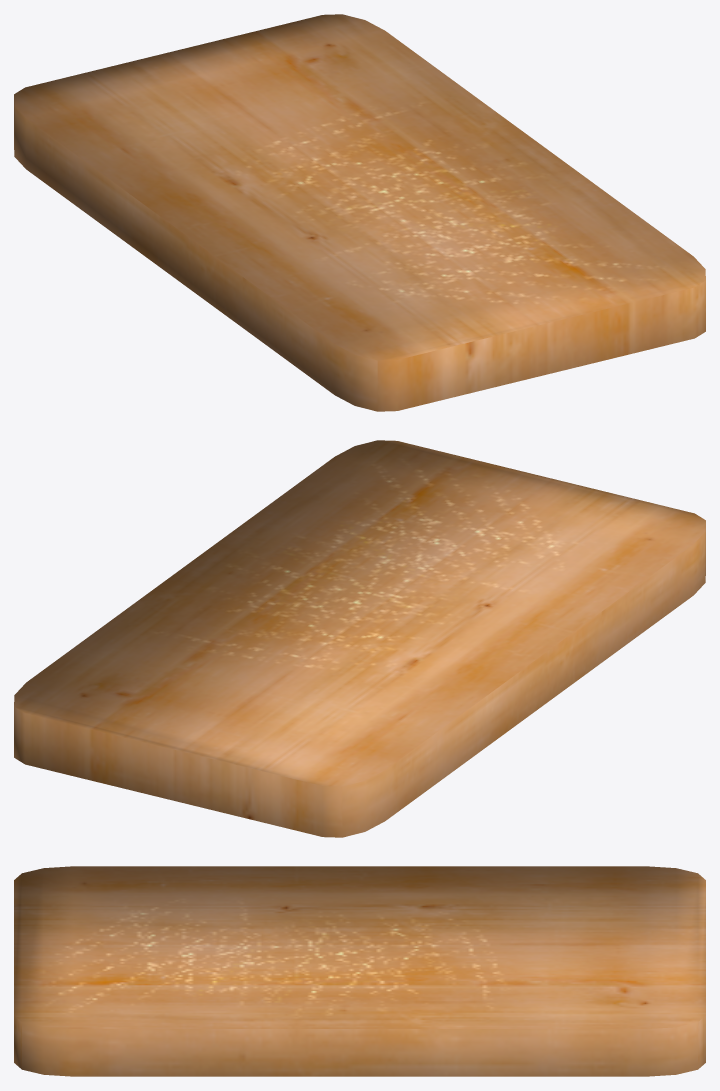
File: ChoppingBoard.glb
3 renders of one model, top to bottom at view 1: azimuth 30°, elevation 25°; view 2: azimuth 150°, elevation 25°; view 3: azimuth 270°, elevation 25°, orthographic. The views are drawn at different scales.
Visible parts, largest first — view 1: Cube; view 2: Cube; view 3: Cube.
Part boxes in pixels (box(x1,y1,x2,y2)): Cube: box(14, 14, 705, 411); Cube: box(14, 440, 705, 837); Cube: box(14, 866, 705, 1076).
Size of the model in its own units: 0.8998 by 0.1225 by 1.62.
1 material, 1 textured.
